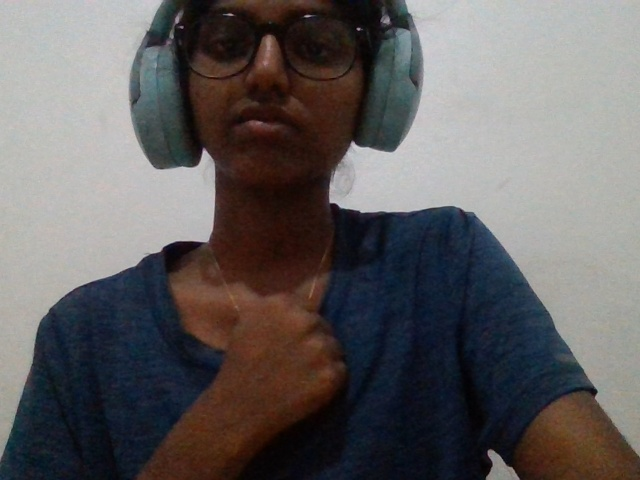Sorry: (159, 277, 381, 475)
